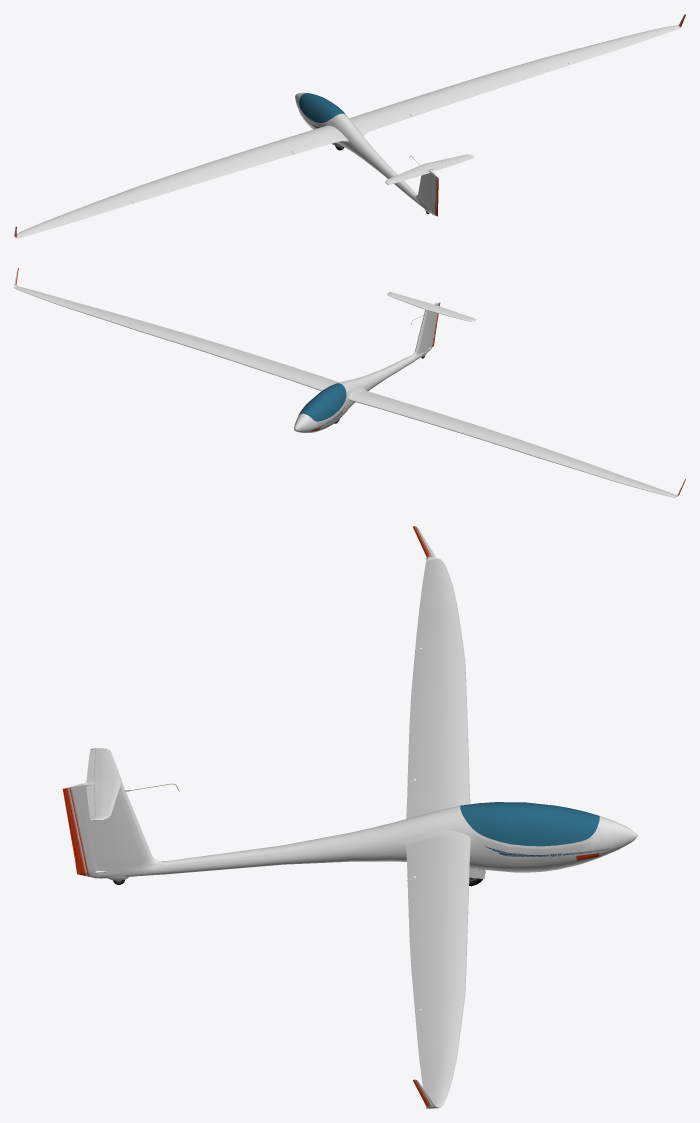
File: ASG29_stat.gltf
The picture shows the model from 3 angles, top to bottom: view 1: azimuth 30°, elevation 25°; view 2: azimuth 150°, elevation 25°; view 3: azimuth 270°, elevation 25°; orthographic projection. The views are drawn at different scales.
Visible parts, largest first — view 1: node14, node16, node18; view 2: node14, node16, node18, node13; view 3: node14, node16, node18, node13.
Part boxes in pixels (box(x1,y1,x2,y2)): node14: box(14, 25, 680, 238); node16: box(298, 93, 438, 216); node18: box(299, 93, 345, 122); node14: box(14, 284, 678, 497); node16: box(294, 302, 440, 430); node18: box(299, 383, 346, 421); node13: box(294, 383, 350, 432); node14: box(86, 556, 470, 1108); node16: box(62, 782, 637, 880); node18: box(460, 802, 599, 846); node13: box(455, 806, 637, 872).
Bounding box in the file's own units: 18.04 × 1.67 × 6.73.
